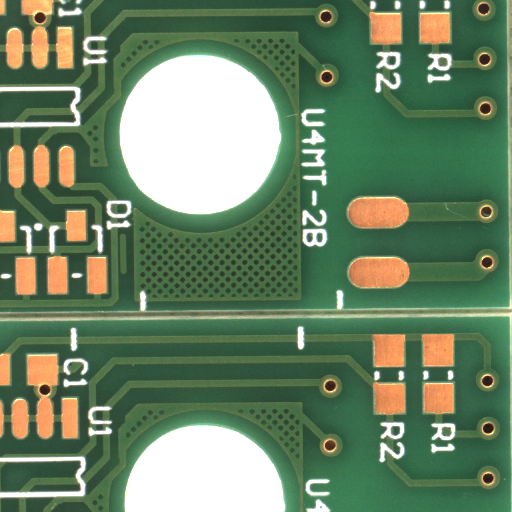Spurious_copper: (123, 254, 132, 293)
